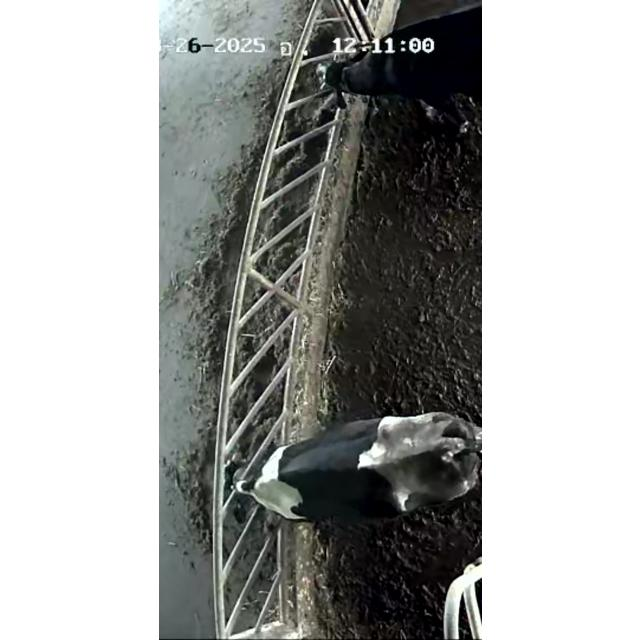eat: (172, 430, 336, 530), (256, 24, 416, 120)
